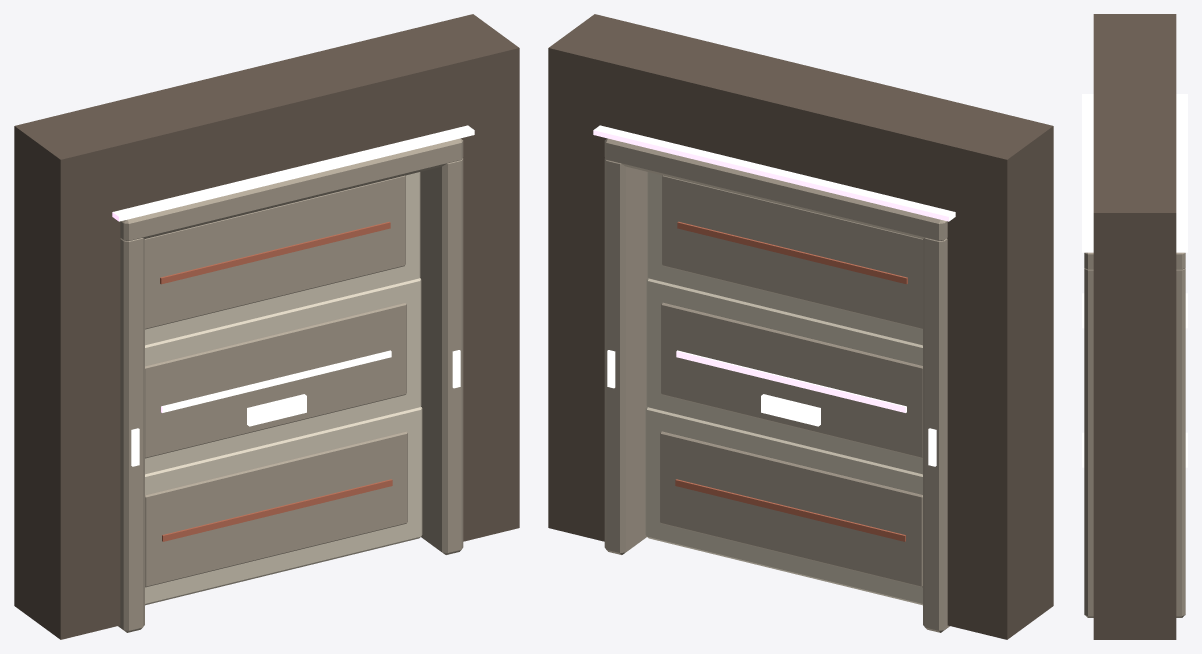
The model's file is door_du_shutter.glb.
3 renders of one model, left to right at view 1: azimuth 30°, elevation 25°; view 2: azimuth 150°, elevation 25°; view 3: azimuth 270°, elevation 25°, orthographic. The views are drawn at different scales.
Visible parts, largest first — view 1: frame, slat0, slat1, slat2; view 2: frame, slat0, slat1, slat2; view 3: frame.
Part boxes in pixels (x1,y1,x2,y2): frame: (14,14,519,639); slat0: (145,406,422,605); slat1: (145,278,421,474); slat2: (145,172,420,345); frame: (548,14,1053,639); slat0: (645,406,922,605); slat1: (646,278,922,474); slat2: (647,172,922,345); frame: (1082,14,1187,639).
Size of the model in its own units: 4 by 4.05 by 0.9.
